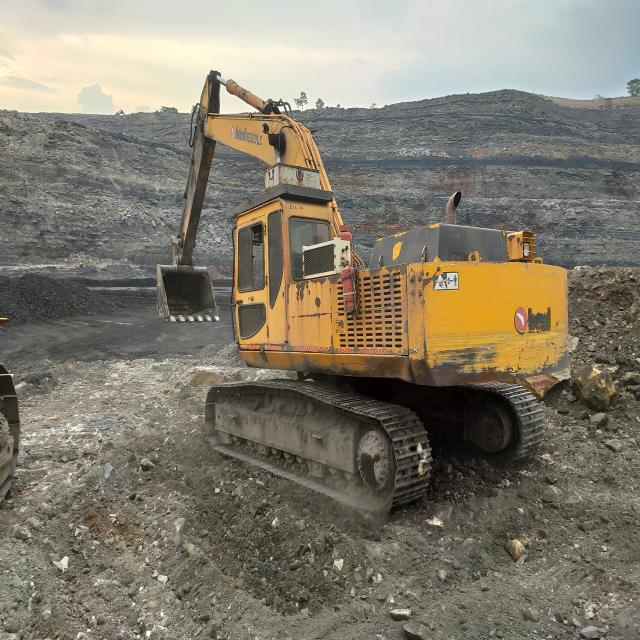excavator: (154, 71, 570, 524)
